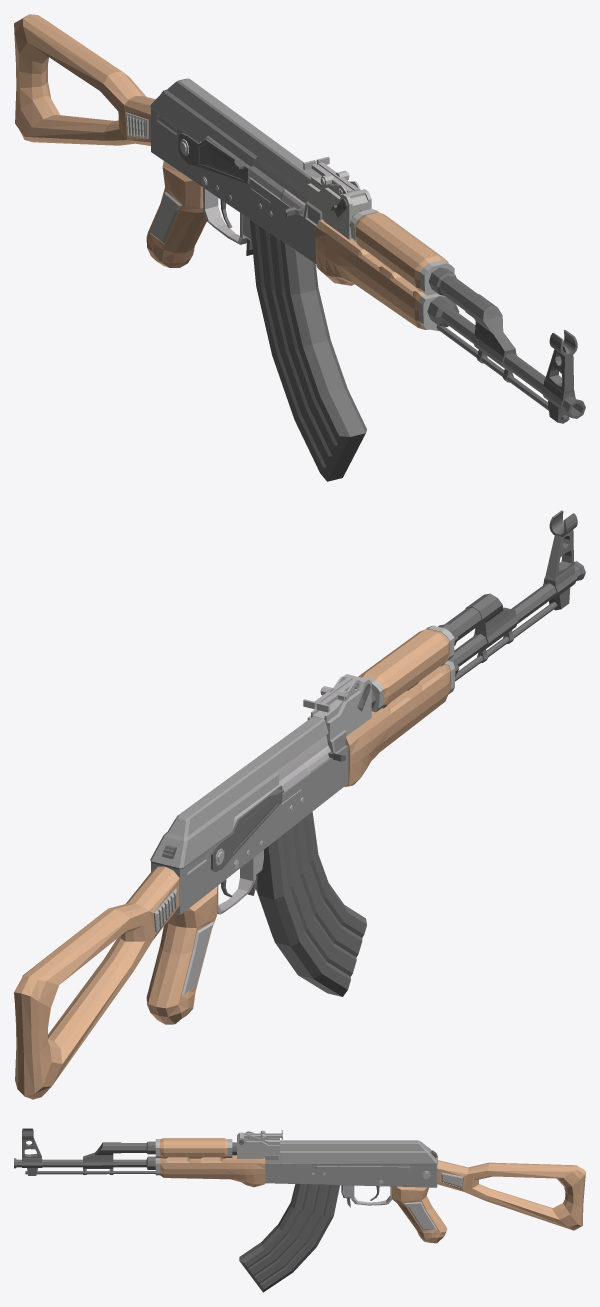
The picture shows the model from 3 angles, top to bottom: view 1: azimuth 30°, elevation 25°; view 2: azimuth 150°, elevation 25°; view 3: azimuth 270°, elevation 25°; orthographic projection. The views are drawn at different scales.
Bounding box in the file's own units: 0.1076 × 0.6727 × 2.17.
